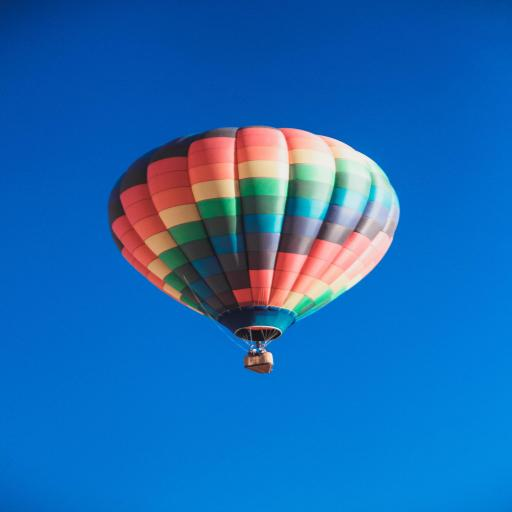hot air ballon: (103, 120, 406, 380)
